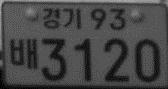0: (135, 38, 160, 82)
1: (71, 36, 96, 82)
2: (103, 37, 130, 82)
3: (41, 37, 67, 82), (108, 7, 126, 31)
9: (90, 7, 106, 30)
경기_H: (42, 7, 81, 30)
배: (9, 37, 38, 70)
